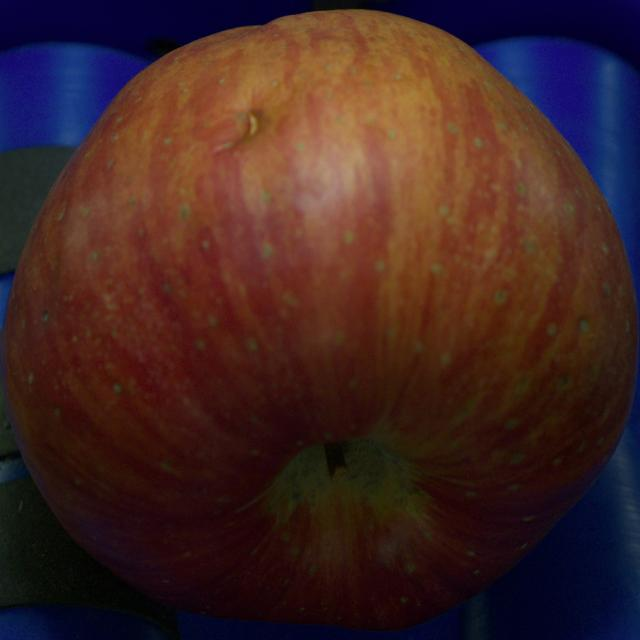apple: (0, 11, 638, 630)
scratch: (213, 105, 270, 156)
